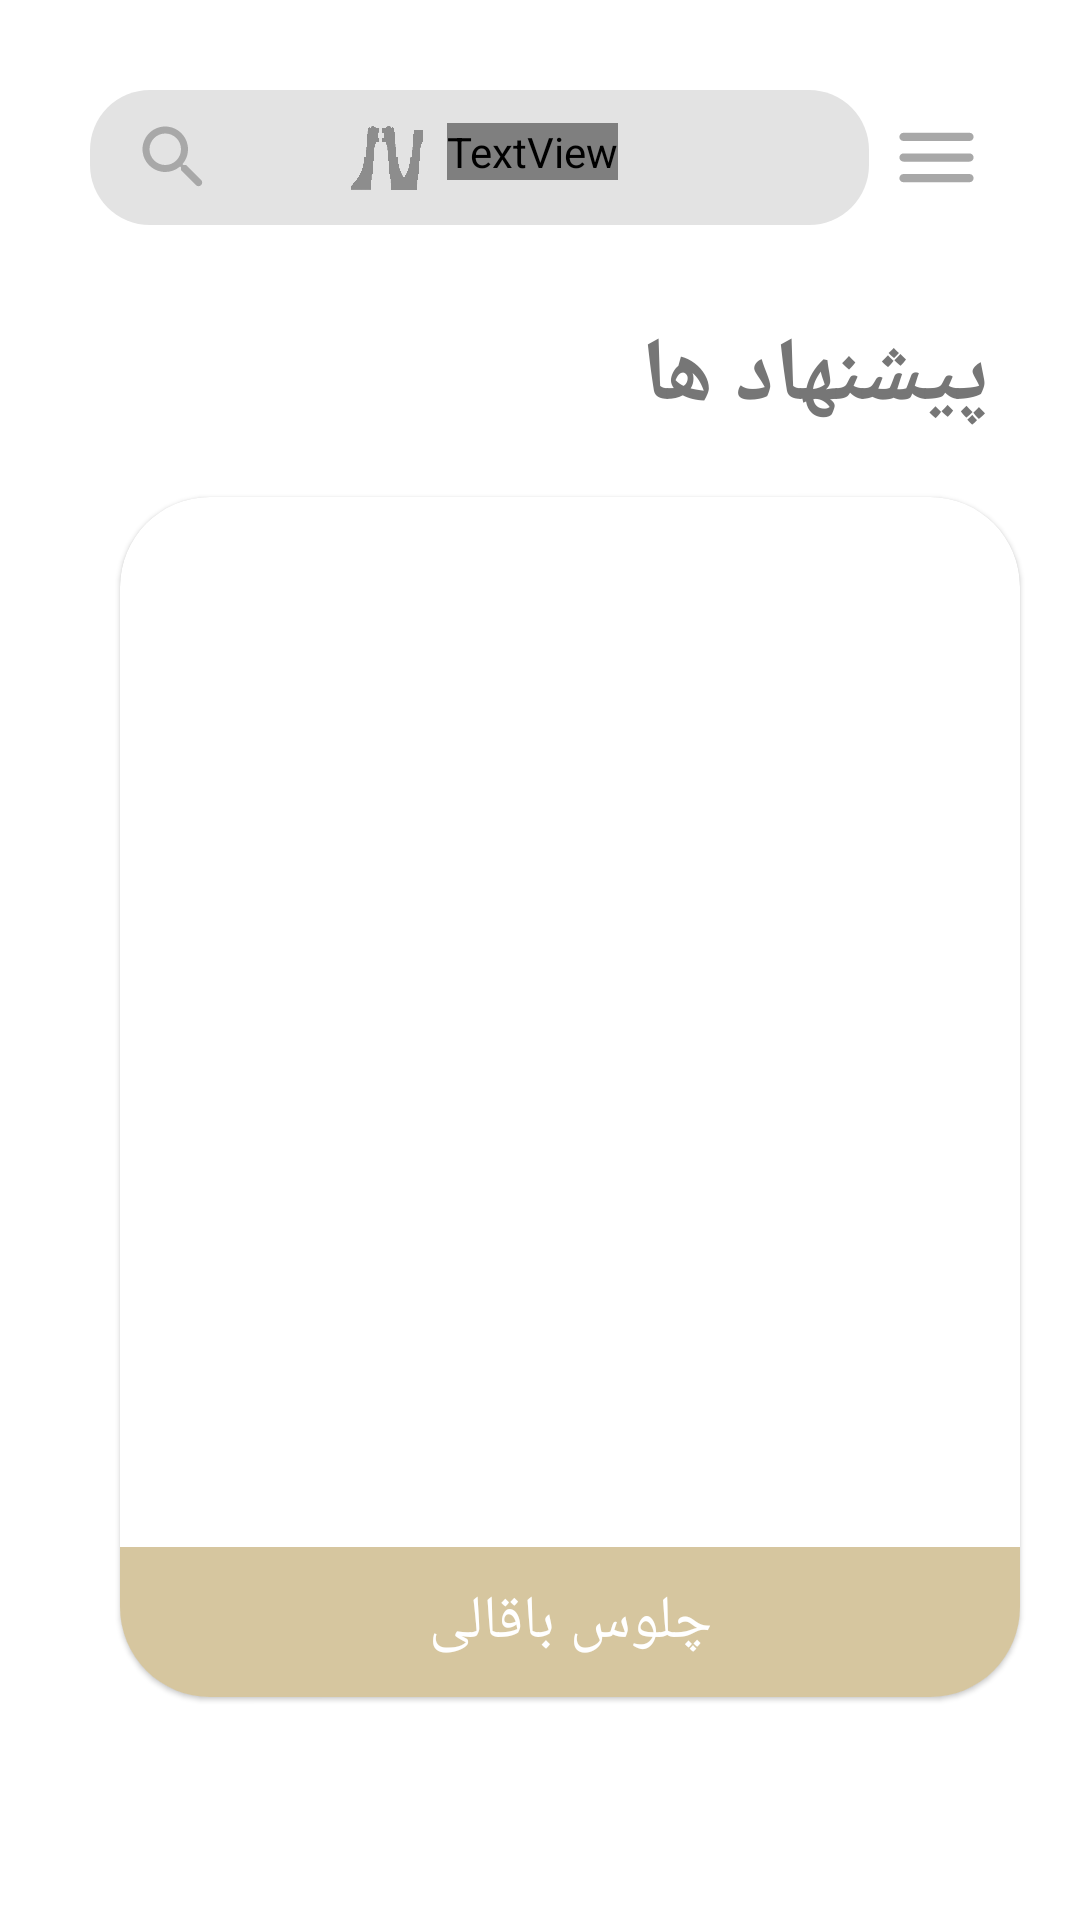

Icons on this 1080w x 1920h Android screen, each with its box as (x1, y1, x2, y2):
Search: (142, 126, 202, 186)
